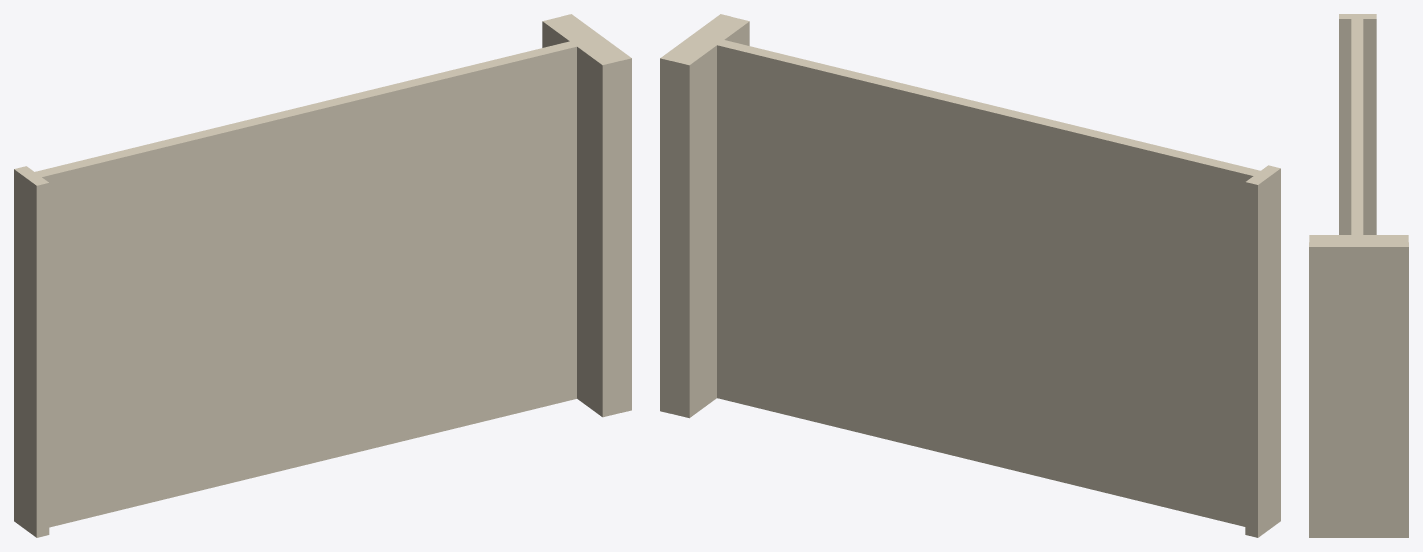
The picture shows the model from 3 angles, left to right: view 1: azimuth 30°, elevation 25°; view 2: azimuth 150°, elevation 25°; view 3: azimuth 270°, elevation 25°; orthographic projection. The views are drawn at different scales.
Parts seen in each view (by area): view 1: B-GF-WALL-015; view 2: B-GF-WALL-015; view 3: B-GF-WALL-015.
Boxes of the visible parts, bbox=[...] form: B-GF-WALL-015: bbox=[14, 14, 631, 537]; B-GF-WALL-015: bbox=[660, 14, 1280, 537]; B-GF-WALL-015: bbox=[1309, 14, 1408, 537].
Bounding box in the file's own units: 4.15 × 2.42 × 0.753.
